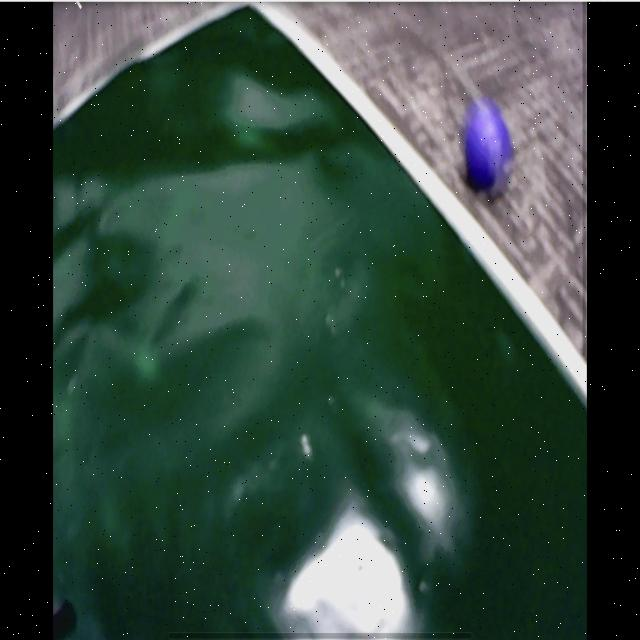ball: (466, 114, 510, 189)
